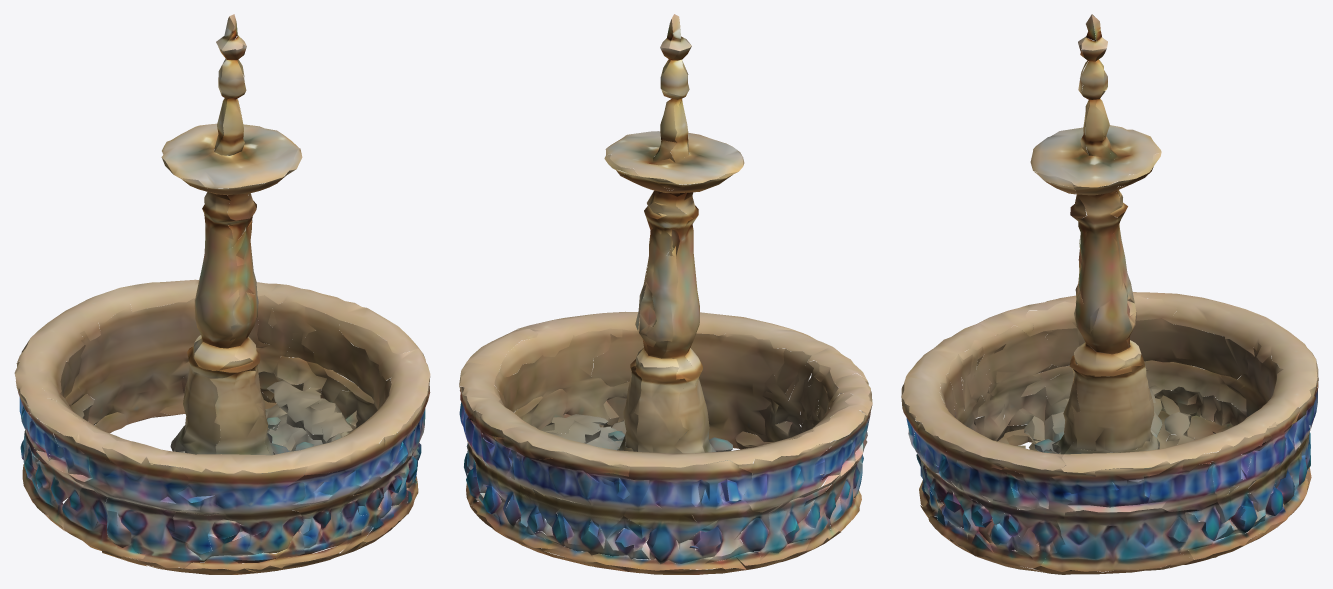
Rendered from fountain.glb.
3 renders of one model, left to right at view 1: azimuth 30°, elevation 25°; view 2: azimuth 150°, elevation 25°; view 3: azimuth 270°, elevation 25°, orthographic.
Parts seen in each view (by area): view 1: geometry_0; view 2: geometry_0; view 3: geometry_0.
Boxes of the visible parts, x1=… form: geometry_0: x1=14, y1=14, x2=430, y2=574; geometry_0: x1=459, y1=14, x2=872, y2=574; geometry_0: x1=901, y1=14, x2=1318, y2=574.
Bounding box in the file's own units: 1.71 × 2.2 × 1.7.
1 material, 1 textured.
